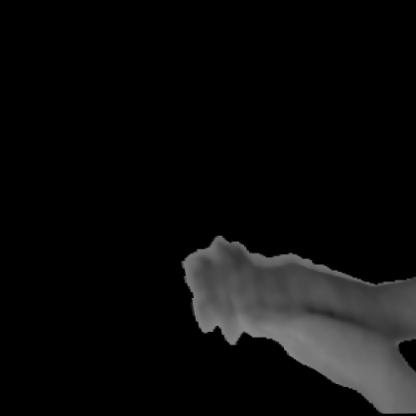clap: (150, 224, 412, 396)
